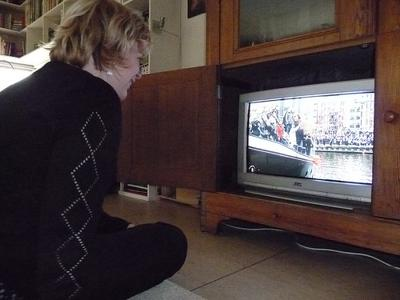person: (2, 3, 188, 299)
